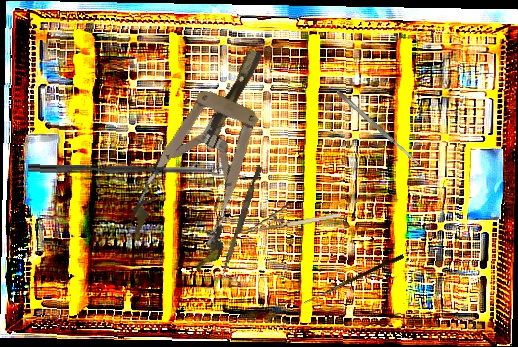Hook Surgical: (303, 252, 405, 308)
Needle Holder: (238, 196, 342, 235)
Pusher: (220, 164, 263, 278)
Spatula Surgical: (335, 88, 421, 168)
Speculum: (122, 32, 302, 277)
Surgical Spoon: (27, 164, 225, 177)
